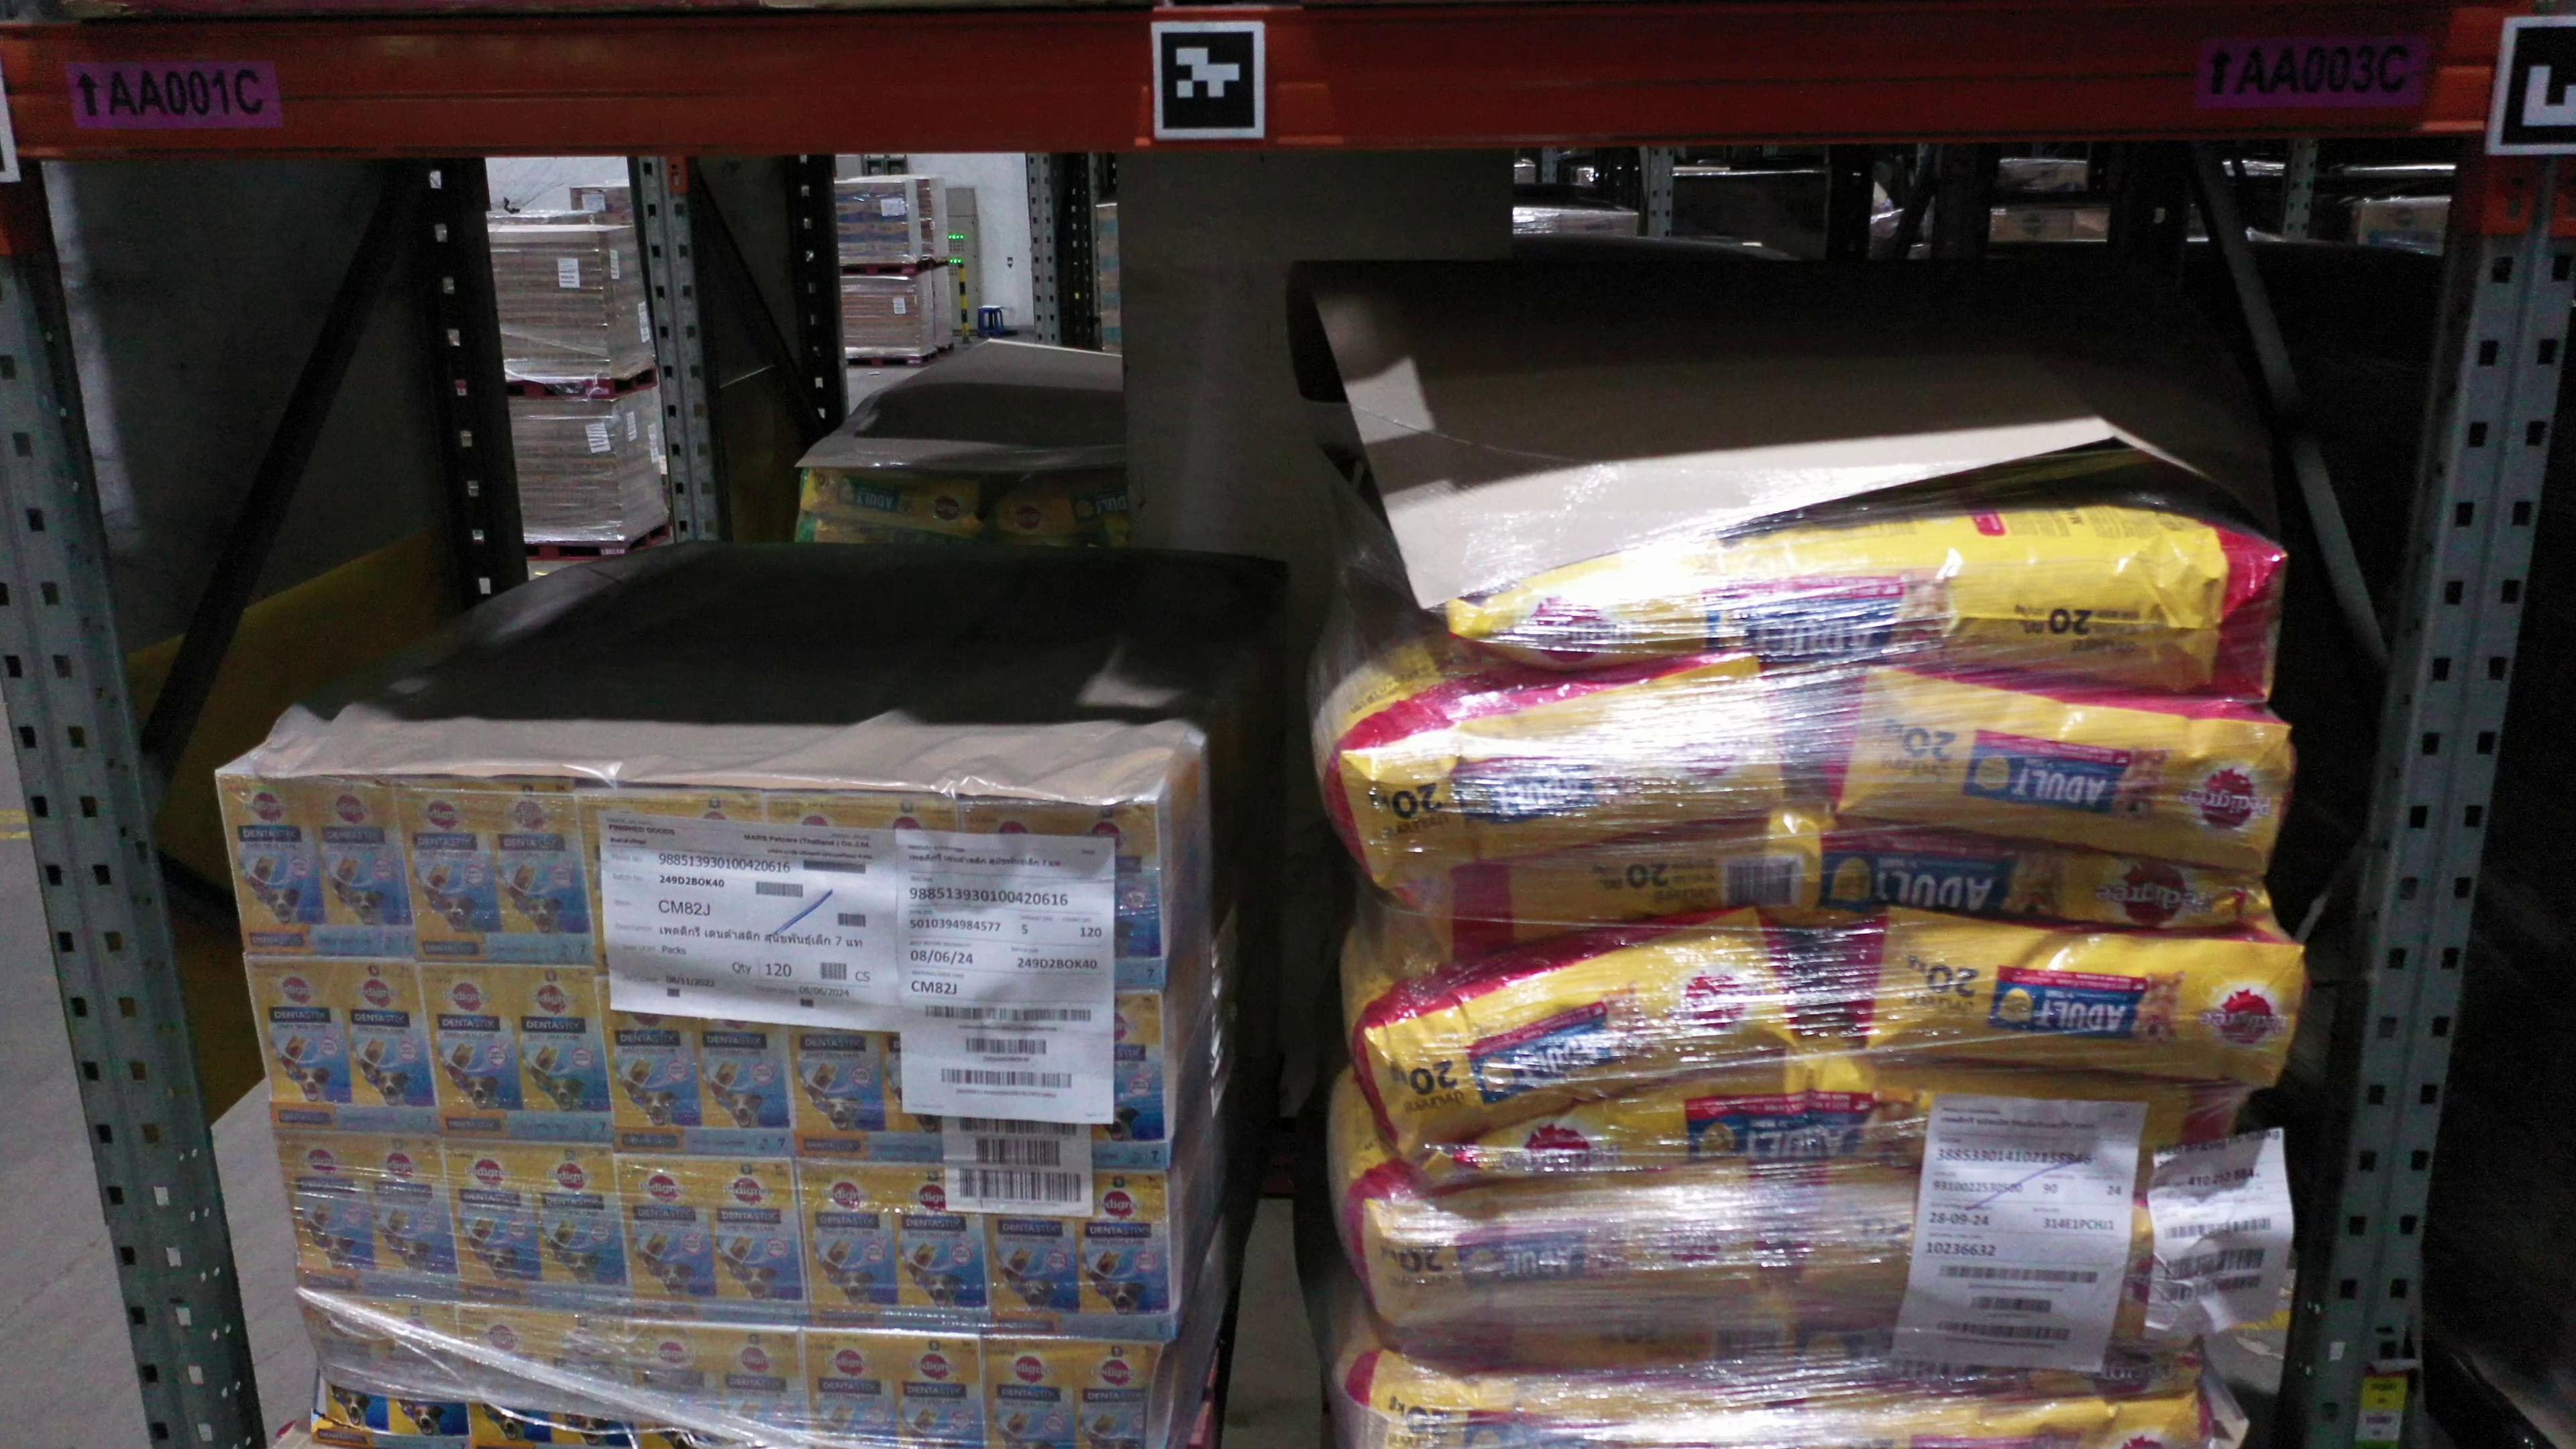-: (961, 791, 1169, 994), (763, 786, 973, 977), (573, 778, 780, 971), (780, 973, 982, 1168), (403, 777, 600, 971), (596, 971, 796, 1159), (218, 773, 416, 961), (971, 989, 1168, 1171), (246, 957, 446, 1136), (421, 964, 616, 1146), (794, 1159, 989, 1339), (619, 1150, 814, 1329), (982, 1168, 1177, 1341), (446, 1143, 633, 1320), (278, 1136, 458, 1299), (303, 1295, 476, 1449), (628, 1313, 814, 1449), (464, 1306, 639, 1449), (984, 1338, 1169, 1449), (807, 1336, 989, 1449)
